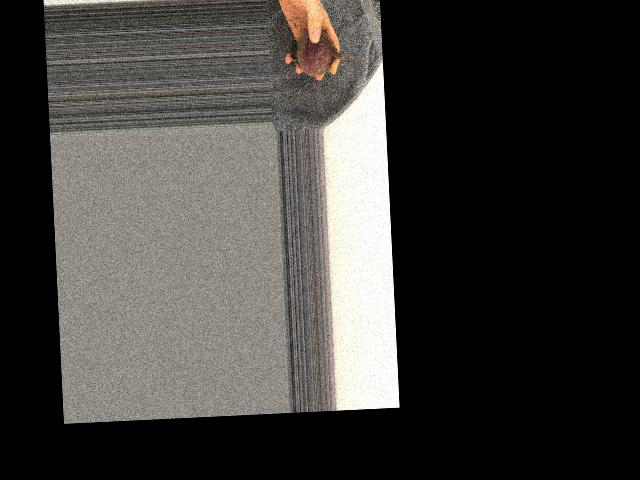beet: (290, 25, 370, 78)
